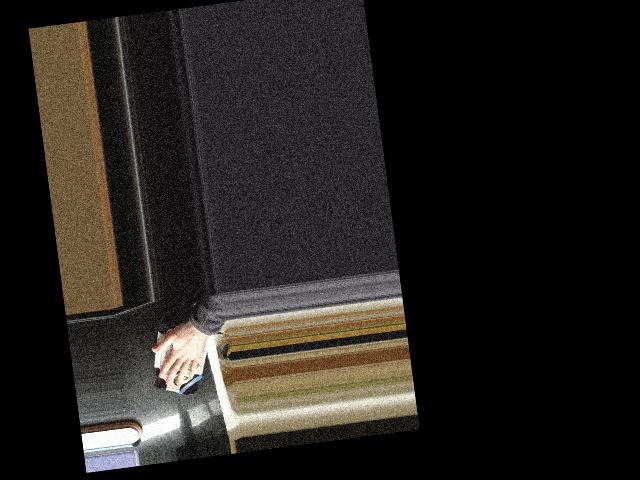cheese: (143, 316, 219, 401)
